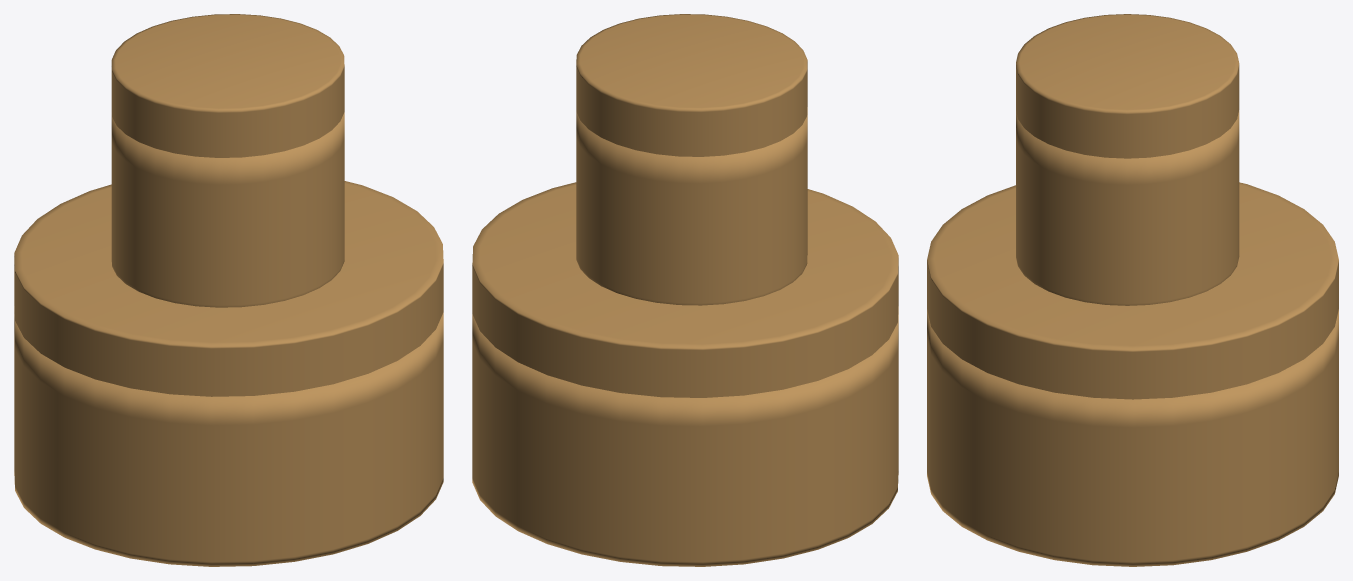
The model's file is 2-tier-caramel-none-none.glb.
The picture shows the model from 3 angles, left to right: view 1: azimuth 30°, elevation 25°; view 2: azimuth 150°, elevation 25°; view 3: azimuth 270°, elevation 25°; orthographic projection.
Parts seen in each view (by area): view 1: Cylinder.023, Cylinder.013; view 2: Cylinder.023, Cylinder.013; view 3: Cylinder.023, Cylinder.013.
Boxes of the visible parts, x1,y1,x2,y2 form: Cylinder.023: (14, 181, 443, 566); Cylinder.013: (111, 14, 344, 307); Cylinder.023: (472, 182, 898, 566); Cylinder.013: (576, 14, 807, 305); Cylinder.023: (927, 182, 1338, 566); Cylinder.013: (1016, 14, 1239, 305).
Bounding box in the file's own units: 3.4 × 3.61 × 3.27.
